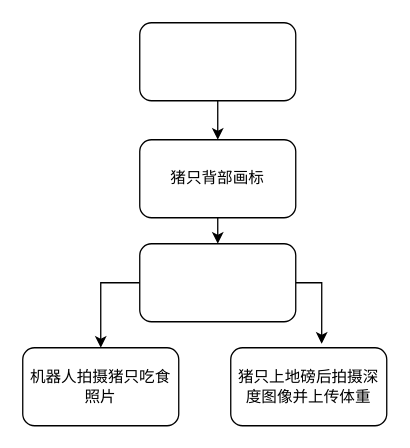
Image size: 410x448. Some labels were removed from this diagram. The centre of each missing label's shape, as x and y in pixels:
"猪只在一侧饮水、一侧吃食" goes at [217,282].
"部署圈内地磅" goes at [217,61].
